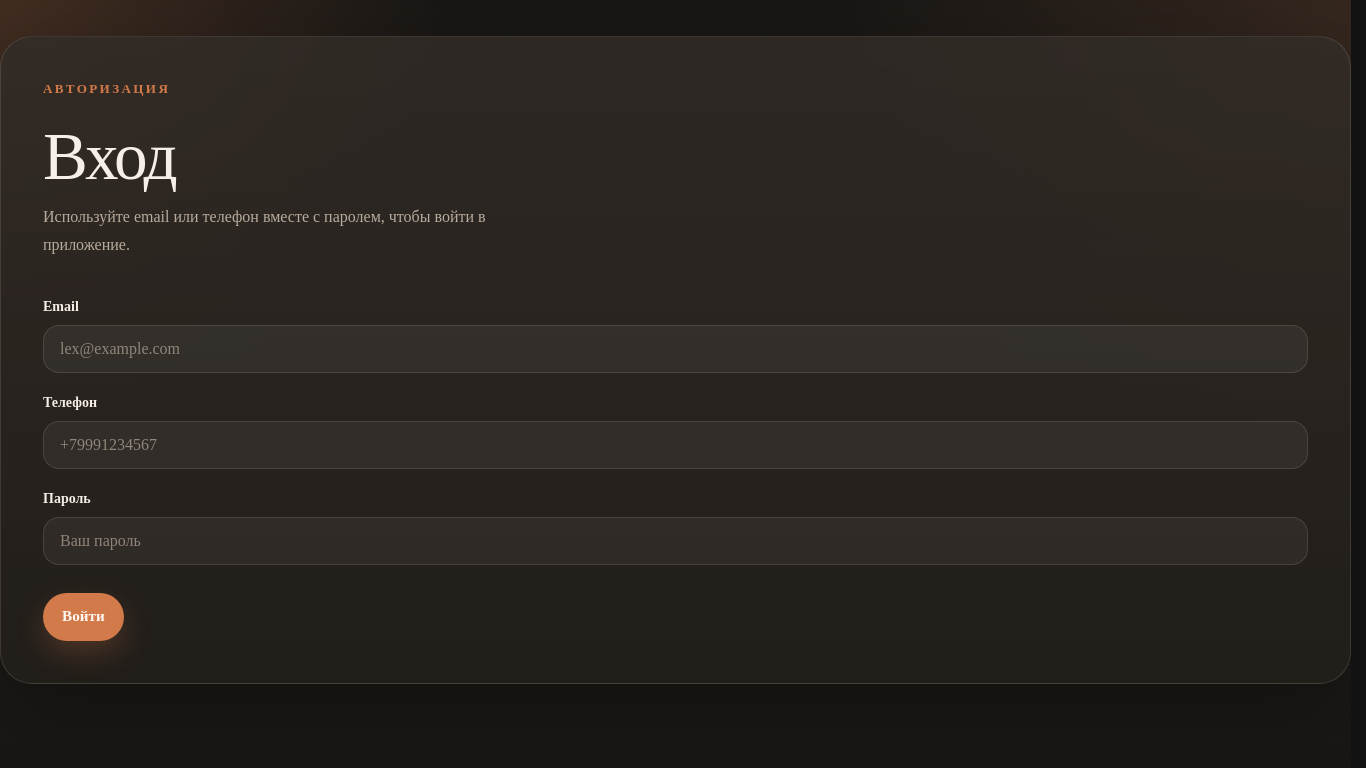
Test: LoginPage › shows localized validation error for invalid phone
The width and height of the screenshot is (1366, 768).
Type "12345" into the field labelled "Телефон" at (676, 444), box left=43, top=420, right=1308, bottom=468
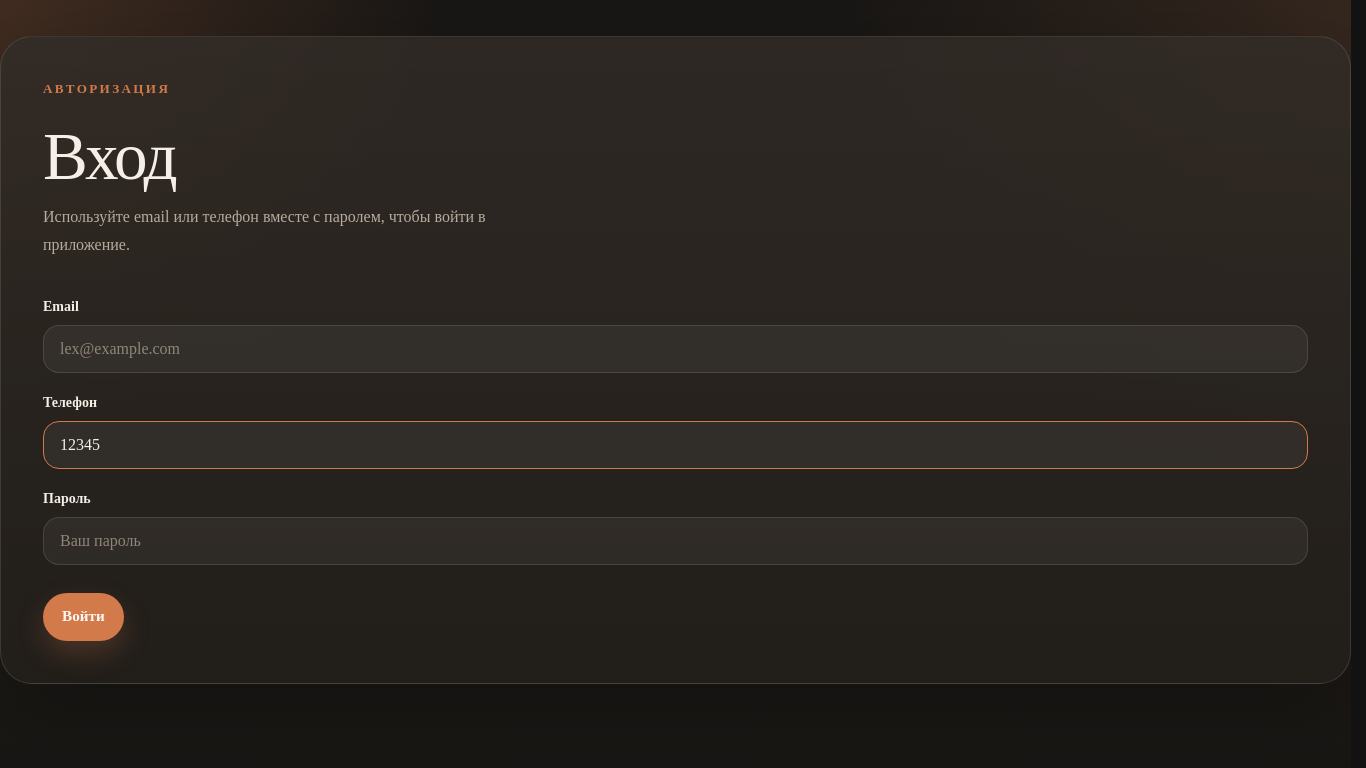
Type "password123" into the password field labelled "Пароль" at (676, 540), box left=43, top=516, right=1308, bottom=564
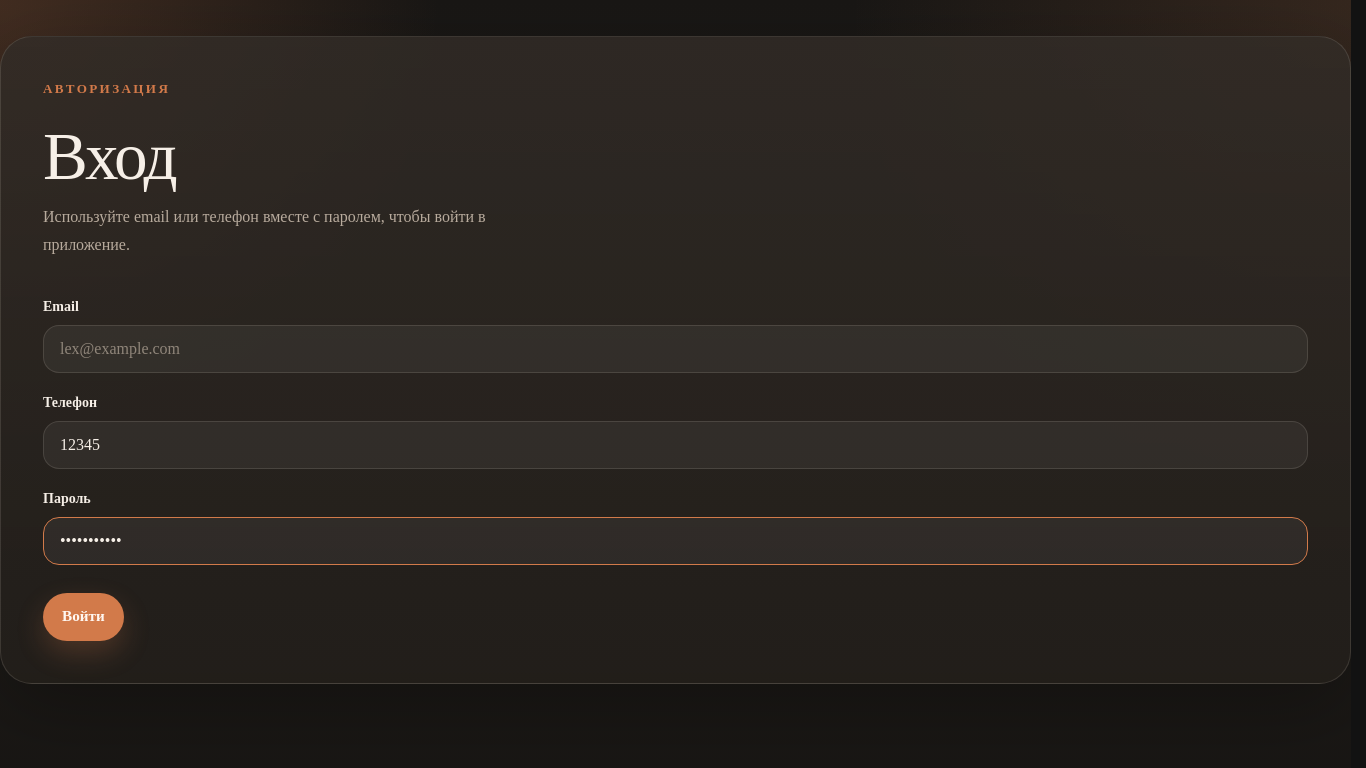
Click the button "Войти" at (83, 616), box left=43, top=592, right=124, bottom=640
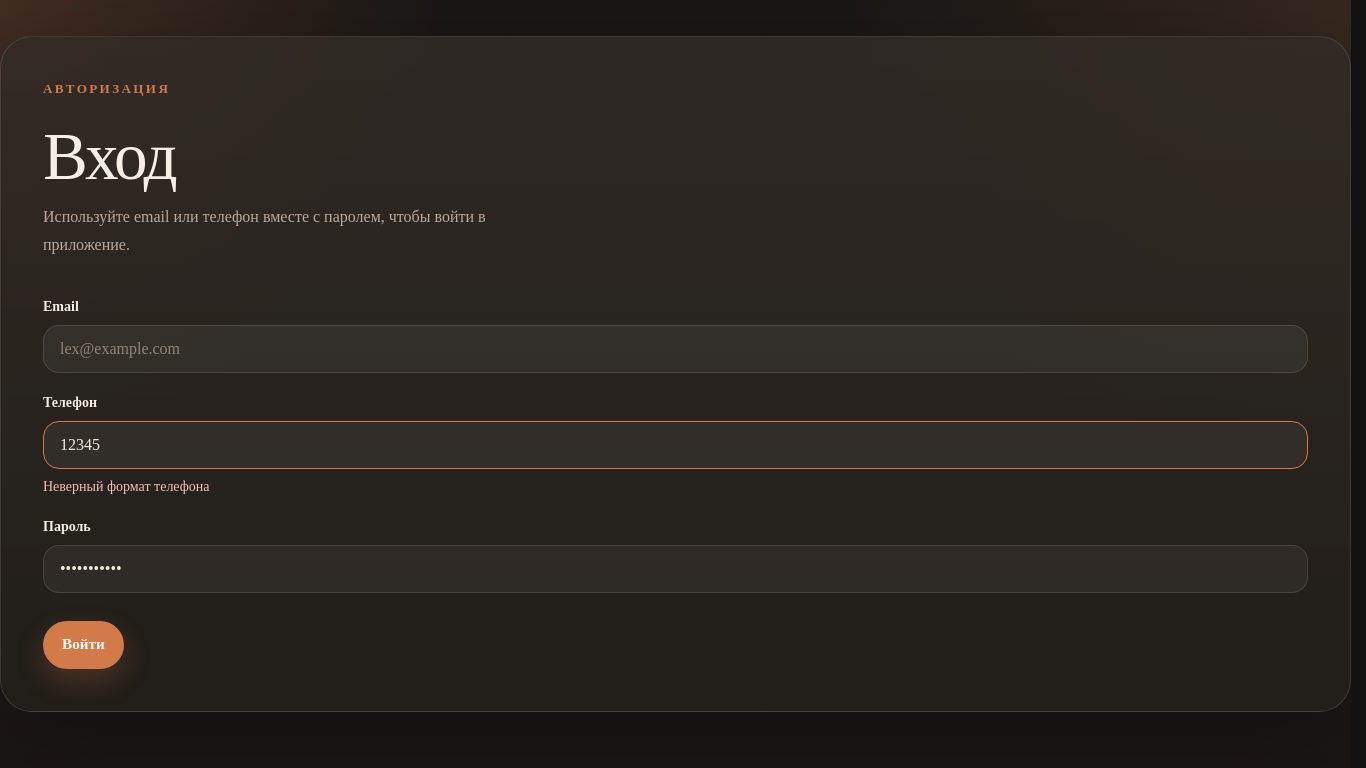
Result: the text "Неверный формат телефона" is shown at left=43, top=478, right=210, bottom=494
